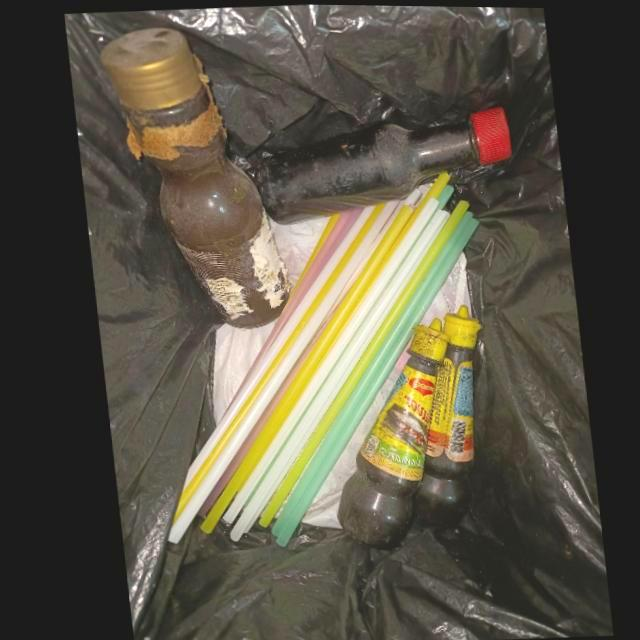glass_bottle: (99, 22, 285, 326), (253, 106, 511, 225)
paper: (217, 196, 437, 523)
plastic_bottle: (330, 317, 444, 549), (406, 303, 477, 524)
